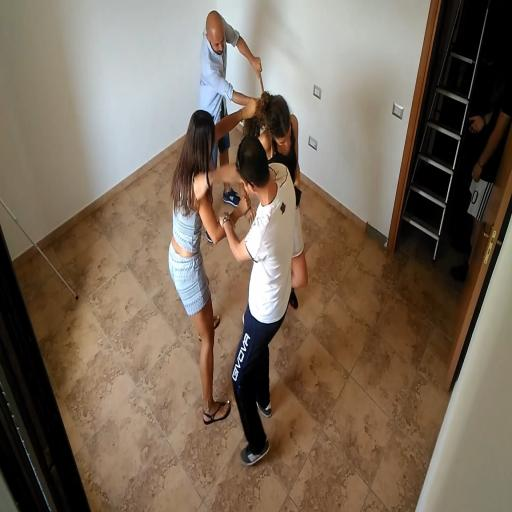empurrar: (166, 158, 319, 472), (186, 4, 316, 154)
